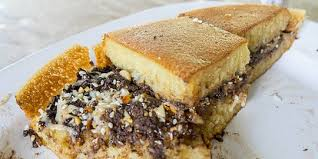Martabak manis: (98, 14, 248, 141), (246, 6, 306, 80)
